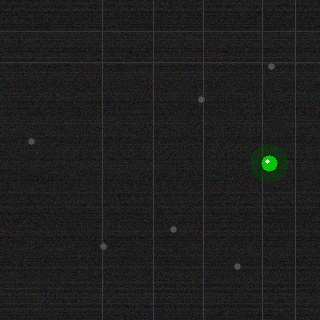green_normal: (259, 153, 279, 173)
